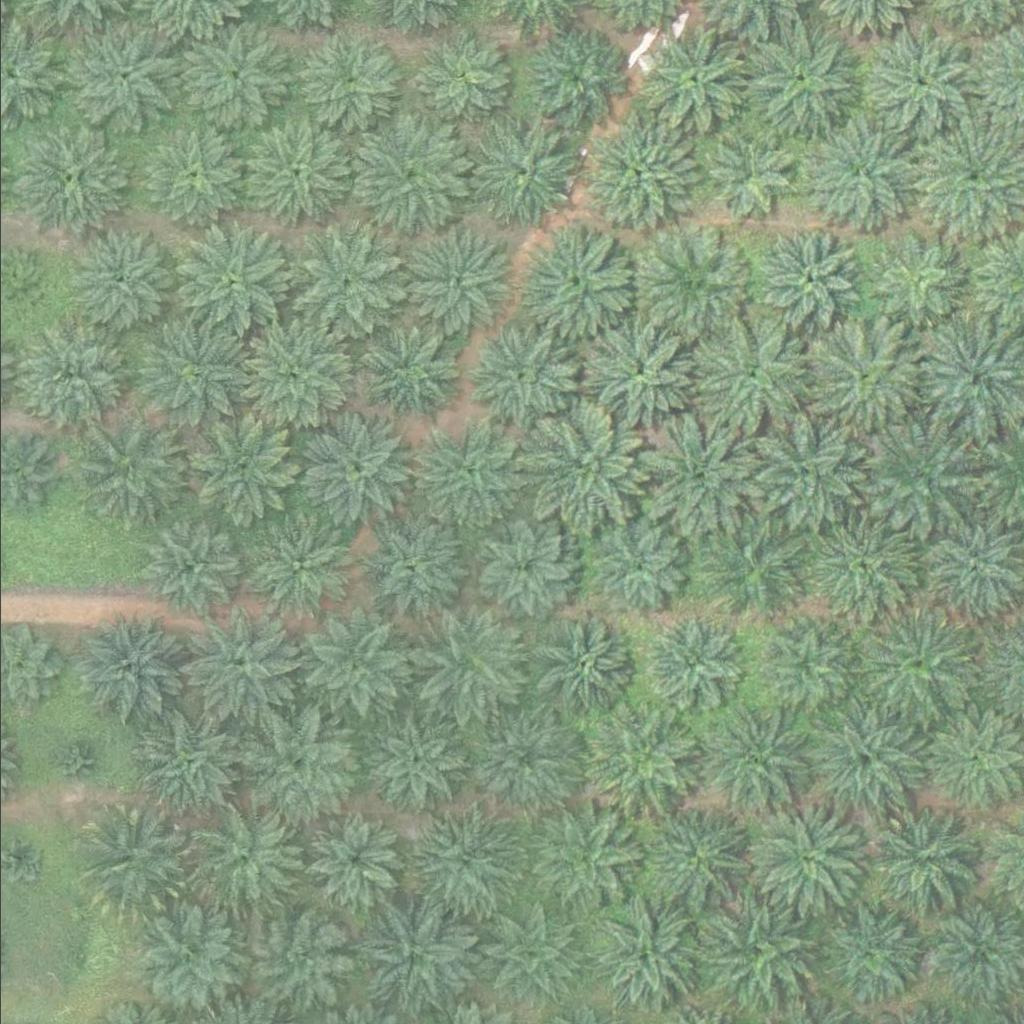Kelapa_Sawit: (866, 420, 980, 533), (700, 705, 814, 818), (524, 803, 638, 916), (469, 896, 583, 1009), (359, 898, 473, 1011), (404, 806, 518, 919), (15, 320, 129, 433), (174, 226, 288, 339), (860, 21, 973, 134), (746, 24, 859, 137), (641, 25, 754, 138), (581, 119, 694, 232), (522, 229, 635, 342), (806, 320, 919, 433), (747, 415, 860, 528), (641, 417, 754, 530), (526, 411, 639, 524), (868, 609, 981, 722), (808, 706, 921, 819), (747, 800, 860, 913), (638, 802, 751, 915), (239, 902, 352, 1015), (295, 610, 408, 723), (182, 610, 295, 723), (67, 613, 180, 726), (246, 508, 359, 621), (235, 324, 348, 437), (140, 318, 253, 431), (400, 225, 513, 338), (284, 229, 397, 342), (465, 116, 578, 229), (351, 121, 464, 234), (807, 516, 921, 628), (575, 706, 689, 818), (236, 122, 350, 234), (78, 804, 191, 916), (799, 116, 912, 228), (636, 228, 749, 340), (694, 322, 807, 434), (588, 320, 701, 432), (693, 513, 806, 625), (467, 702, 580, 814), (867, 803, 980, 915), (814, 893, 927, 1005), (698, 892, 811, 1004), (584, 900, 697, 1012), (132, 907, 245, 1019), (188, 802, 301, 914), (242, 702, 355, 814), (135, 706, 248, 818), (413, 605, 526, 717), (409, 417, 522, 529), (298, 414, 411, 526), (186, 419, 299, 531), (79, 418, 192, 530), (464, 324, 577, 436), (11, 124, 124, 236), (174, 23, 287, 135), (64, 27, 177, 139), (526, 27, 627, 127), (693, 127, 794, 227), (871, 231, 972, 331), (760, 227, 861, 327), (588, 517, 689, 617), (469, 519, 570, 619), (527, 619, 628, 719), (303, 811, 404, 911), (362, 713, 463, 813), (365, 519, 466, 619), (138, 520, 239, 620), (359, 329, 460, 429), (641, 614, 741, 714), (71, 234, 171, 334), (140, 127, 240, 227), (408, 28, 508, 128), (294, 33, 394, 133), (756, 620, 844, 708), (50, 740, 101, 790), (58, 931, 108, 981)
